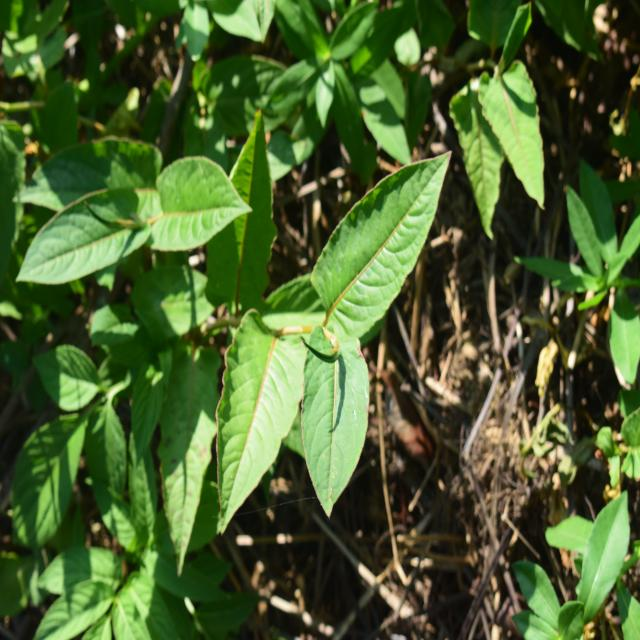Chinese_knotweed: (234, 212, 461, 504), (24, 124, 252, 266)
